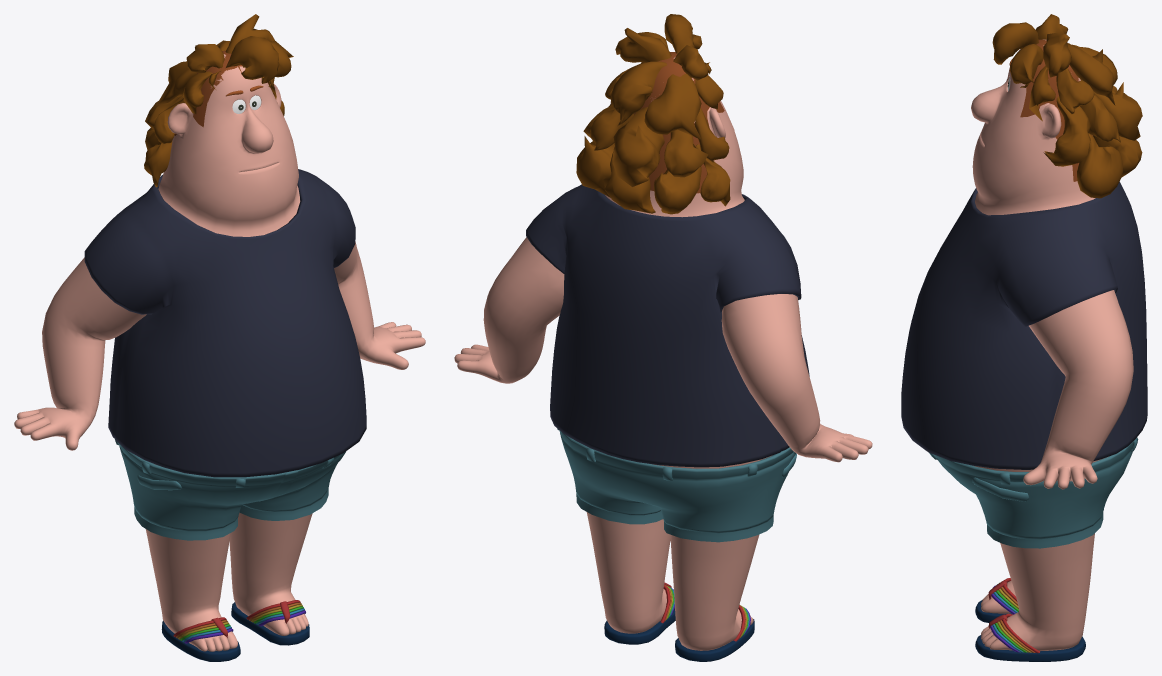
Rendered from E03-CheerCaptain-Phil-R85-Acting.glb.
3 renders of one model, left to right at view 1: azimuth 30°, elevation 25°; view 2: azimuth 150°, elevation 25°; view 3: azimuth 270°, elevation 25°, orthographic. The views are drawn at different scales.
Visible parts, largest first — view 1: R85_SKINNED_SOURCE_MORPH_GEO-phil_shirt, R85_SKINNED_SOURCE_MORPH_GEO-phil_head, R85_SKINNED_SOURCE_MORPH_GEO-phil_arms, R85_SKINNED_SOURCE_MORPH_GEO-phil_body, R85_SKINNED_SOURCE_MORPH_GEO-phil_pants, R85_SKINNED_SOURCE_MORPH_GEO-phil_hair.groom_base, R85_SKINNED_SOURCE_MORPH_GEO-phil_flippers, R85_SKINNED_SOURCE_MORPH_GEO-phil_shorts_fray, R85_SKINNED_SOURCE_MORPH_GEO-phil_hair.scalp; view 2: R85_SKINNED_SOURCE_MORPH_GEO-phil_shirt, R85_SKINNED_SOURCE_MORPH_GEO-phil_arms, R85_SKINNED_SOURCE_MORPH_GEO-phil_hair.groom_base, R85_SKINNED_SOURCE_MORPH_GEO-phil_body, R85_SKINNED_SOURCE_MORPH_GEO-phil_pants, R85_SKINNED_SOURCE_MORPH_GEO-phil_head, R85_SKINNED_SOURCE_MORPH_GEO-phil_flippers, R85_SKINNED_SOURCE_MORPH_GEO-phil_shorts_fray, R85_SKINNED_SOURCE_MORPH_GEO-phil_hair.scalp; view 3: R85_SKINNED_SOURCE_MORPH_GEO-phil_shirt, R85_SKINNED_SOURCE_MORPH_GEO-phil_hair.groom_base, R85_SKINNED_SOURCE_MORPH_GEO-phil_arms, R85_SKINNED_SOURCE_MORPH_GEO-phil_head, R85_SKINNED_SOURCE_MORPH_GEO-phil_body, R85_SKINNED_SOURCE_MORPH_GEO-phil_pants, R85_SKINNED_SOURCE_MORPH_GEO-phil_flippers, R85_SKINNED_SOURCE_MORPH_GEO-phil_shorts_fray, R85_SKINNED_SOURCE_MORPH_GEO-phil_hair.scalp.
Boxes of the visible parts, <box> form: R85_SKINNED_SOURCE_MORPH_GEO-phil_shirt: <box>84,169,366,477</box>; R85_SKINNED_SOURCE_MORPH_GEO-phil_head: <box>158,54,300,236</box>; R85_SKINNED_SOURCE_MORPH_GEO-phil_arms: <box>14,241,425,450</box>; R85_SKINNED_SOURCE_MORPH_GEO-phil_body: <box>145,464,312,651</box>; R85_SKINNED_SOURCE_MORPH_GEO-phil_pants: <box>115,439,345,531</box>; R85_SKINNED_SOURCE_MORPH_GEO-phil_hair.groom_base: <box>144,14,293,187</box>; R85_SKINNED_SOURCE_MORPH_GEO-phil_flippers: <box>161,600,309,661</box>; R85_SKINNED_SOURCE_MORPH_GEO-phil_shorts_fray: <box>134,488,328,540</box>; R85_SKINNED_SOURCE_MORPH_GEO-phil_hair.scalp: <box>174,50,273,135</box>; R85_SKINNED_SOURCE_MORPH_GEO-phil_shirt: <box>526,184,809,467</box>; R85_SKINNED_SOURCE_MORPH_GEO-phil_arms: <box>454,237,872,462</box>; R85_SKINNED_SOURCE_MORPH_GEO-phil_hair.groom_base: <box>576,14,730,214</box>; R85_SKINNED_SOURCE_MORPH_GEO-phil_body: <box>586,455,771,650</box>; R85_SKINNED_SOURCE_MORPH_GEO-phil_pants: <box>557,428,796,533</box>; R85_SKINNED_SOURCE_MORPH_GEO-phil_head: <box>605,57,744,217</box>; R85_SKINNED_SOURCE_MORPH_GEO-phil_flippers: <box>604,582,754,661</box>; R85_SKINNED_SOURCE_MORPH_GEO-phil_shorts_fray: <box>576,494,773,542</box>; R85_SKINNED_SOURCE_MORPH_GEO-phil_hair.scalp: <box>634,52,724,193</box>; R85_SKINNED_SOURCE_MORPH_GEO-phil_shirt: <box>901,181,1147,469</box>; R85_SKINNED_SOURCE_MORPH_GEO-phil_hair.groom_base: <box>992,14,1142,198</box>; R85_SKINNED_SOURCE_MORPH_GEO-phil_arms: <box>1023,290,1133,489</box>; R85_SKINNED_SOURCE_MORPH_GEO-phil_head: <box>971,39,1095,215</box>; R85_SKINNED_SOURCE_MORPH_GEO-phil_body: <box>973,456,1108,650</box>; R85_SKINNED_SOURCE_MORPH_GEO-phil_pants: <box>929,437,1138,539</box>; R85_SKINNED_SOURCE_MORPH_GEO-phil_flippers: <box>975,578,1085,661</box>; R85_SKINNED_SOURCE_MORPH_GEO-phil_shorts_fray: <box>987,512,1103,548</box>; R85_SKINNED_SOURCE_MORPH_GEO-phil_hair.scalp: <box>1020,39,1092,181</box>.
Bounding box in the file's own units: 1.1 × 1.58 × 0.5731.
